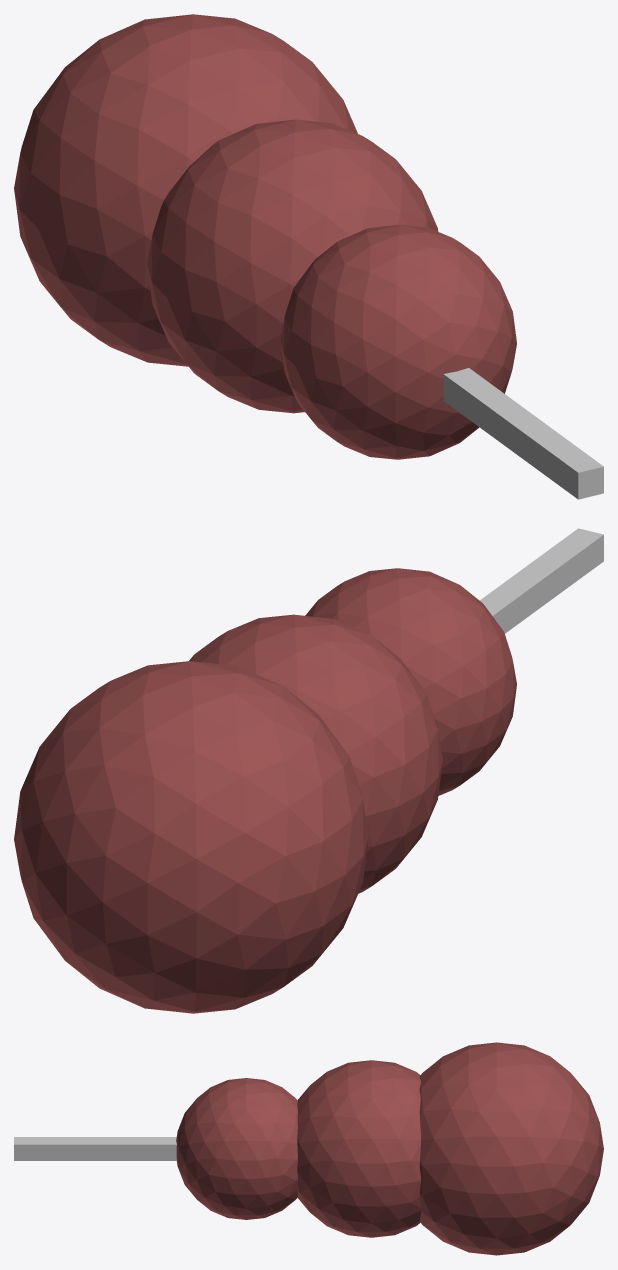
File: fighter_ant.glb
3 views of the same model, one above another, from view 1: azimuth 30°, elevation 25°; view 2: azimuth 150°, elevation 25°; view 3: azimuth 270°, elevation 25° (orthographic). The views are drawn at different scales.
Visible parts, largest first — view 1: world; view 2: world; view 3: world.
Part boxes in pixels (bbox=[...]): world: bbox=[14, 14, 603, 499]; world: bbox=[14, 528, 603, 1013]; world: bbox=[14, 1042, 603, 1255].
Size of the model in its own units: 0.6 by 0.6 by 1.65.
